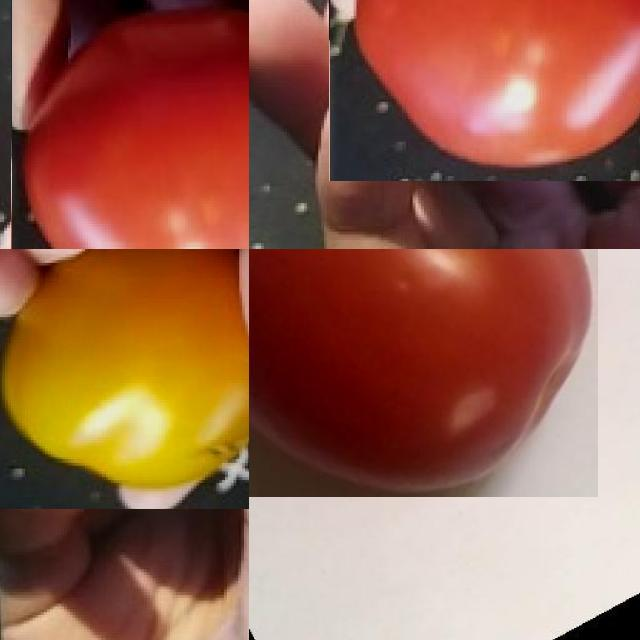Fresh Tomato: (249, 249, 597, 497), (11, 0, 249, 249), (329, 0, 640, 181)
Rotten Tomato: (0, 249, 249, 508)
